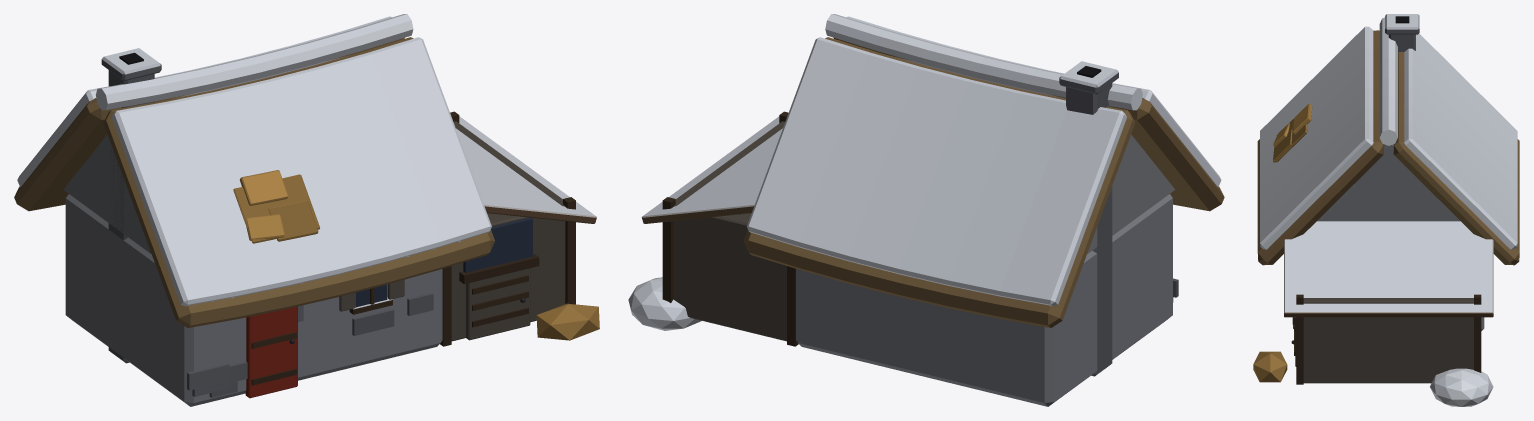
Rendered from village_house_leanto.glb.
3 views of the same model, side by side, from view 1: azimuth 30°, elevation 25°; view 2: azimuth 150°, elevation 25°; view 3: azimuth 270°, elevation 25° (orthographic). The views are drawn at different scales.
Parts seen in each view (by area): view 1: village_house_leanto; view 2: village_house_leanto; view 3: village_house_leanto.
Boxes of the visible parts, <box> form: village_house_leanto: <box>14,14,599,406</box>; village_house_leanto: <box>628,14,1224,406</box>; village_house_leanto: <box>1253,14,1519,406</box>.
Bounding box in the file's own units: 8.87 × 5.87 × 5.85.
